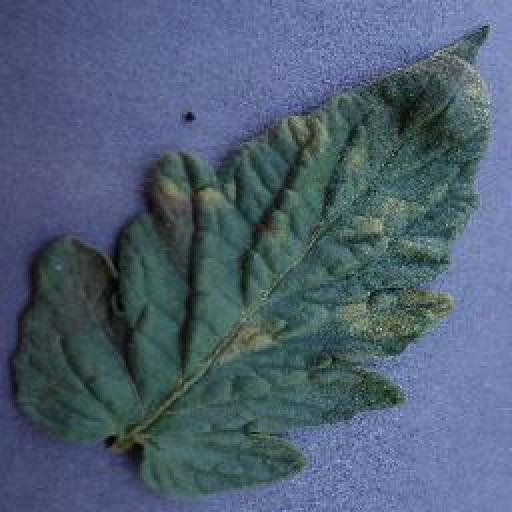disease_tomato: (11, 25, 491, 499)
